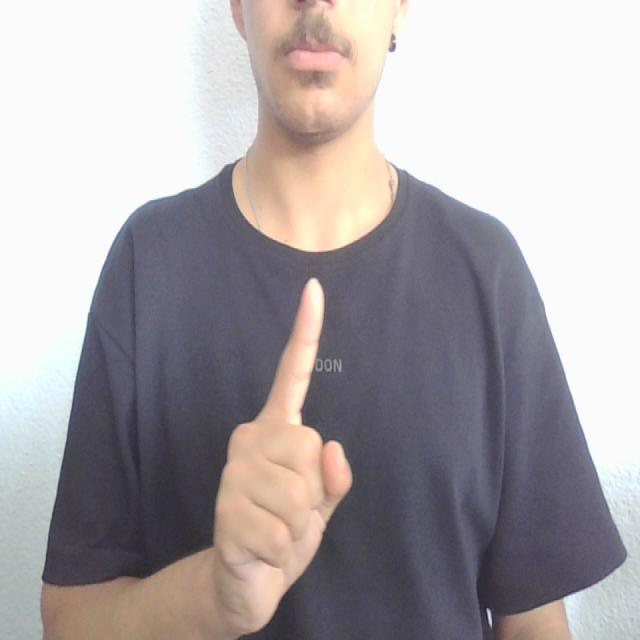Hayir: (186, 260, 356, 640)
